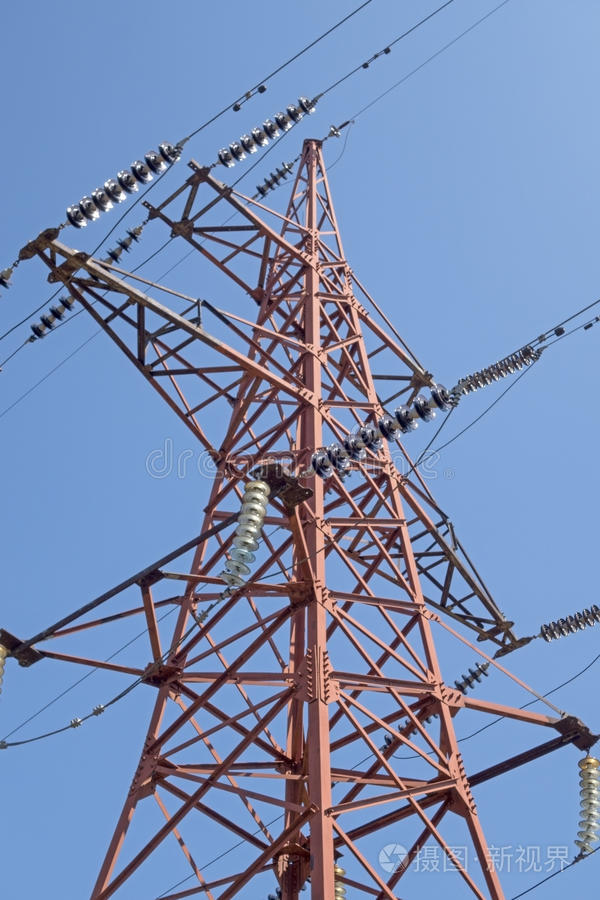insulator: (29, 227, 148, 344), (312, 385, 453, 478), (380, 658, 496, 747), (63, 140, 176, 227), (218, 96, 313, 168), (222, 481, 268, 589), (463, 349, 539, 394), (571, 754, 600, 866), (537, 609, 600, 640), (255, 158, 295, 200)
